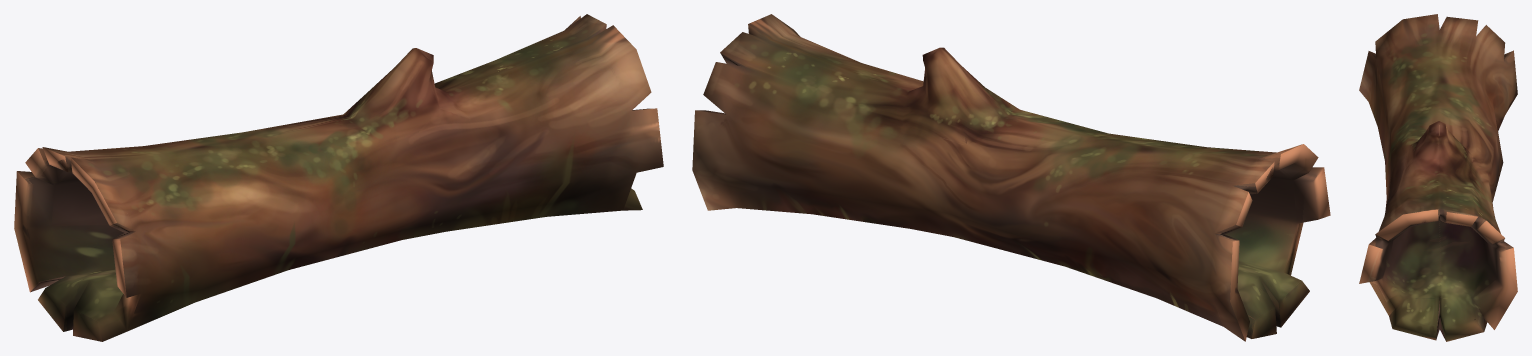
Rendered from log.obj.
The picture shows the model from 3 angles, left to right: view 1: azimuth 30°, elevation 25°; view 2: azimuth 150°, elevation 25°; view 3: azimuth 270°, elevation 25°; orthographic projection. The views are drawn at different scales.
Visible parts, largest first — view 1: Cube_Cube.004; view 2: Cube_Cube.004; view 3: Cube_Cube.004.
Part boxes in pixels (x1=…): Cube_Cube.004: x1=14, y1=14, x2=663, y2=341; Cube_Cube.004: x1=692, y1=14, x2=1330, y2=341; Cube_Cube.004: x1=1359, y1=14, x2=1517, y2=341.
Size of the model in its own units: 7.09 by 2.51 by 2.41.
